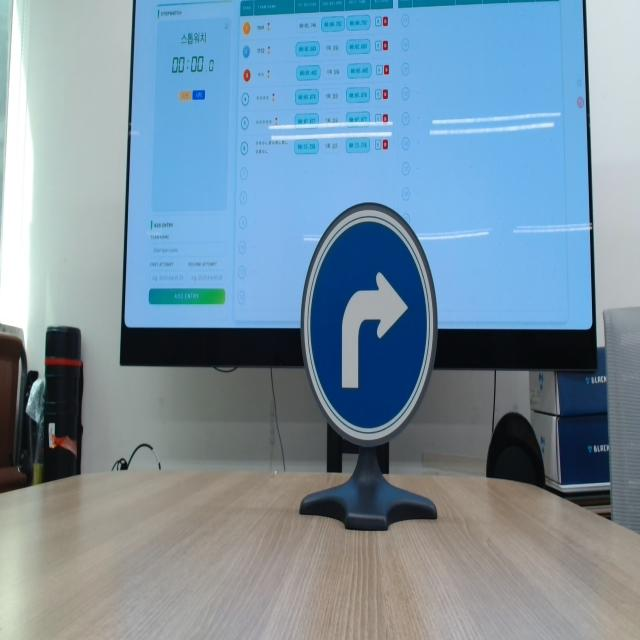right_dierection: (296, 189, 456, 489)
